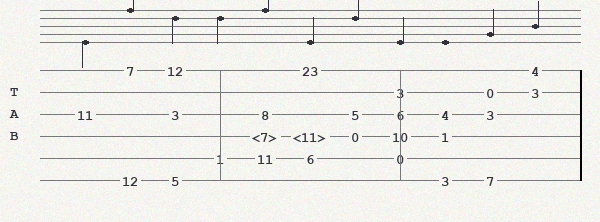0: (351, 130, 363, 143), (396, 152, 408, 165), (486, 86, 498, 99)
1: (216, 152, 228, 165), (441, 130, 453, 143)
10: (392, 130, 412, 143)
11: (77, 108, 97, 121), (257, 152, 277, 165)
12: (122, 174, 142, 187), (167, 64, 187, 77)
23: (302, 64, 322, 77)
3: (171, 108, 183, 121), (396, 86, 408, 99), (441, 174, 453, 187), (486, 108, 498, 121), (531, 86, 543, 99)
4: (441, 108, 453, 121), (531, 64, 543, 77)
5: (171, 174, 183, 187), (351, 108, 363, 121)
6: (306, 152, 318, 165), (396, 108, 408, 121)
7: (126, 64, 138, 77), (486, 174, 498, 187)
8: (261, 108, 273, 121)
harmonic: (293, 130, 331, 143), (252, 130, 282, 143)
